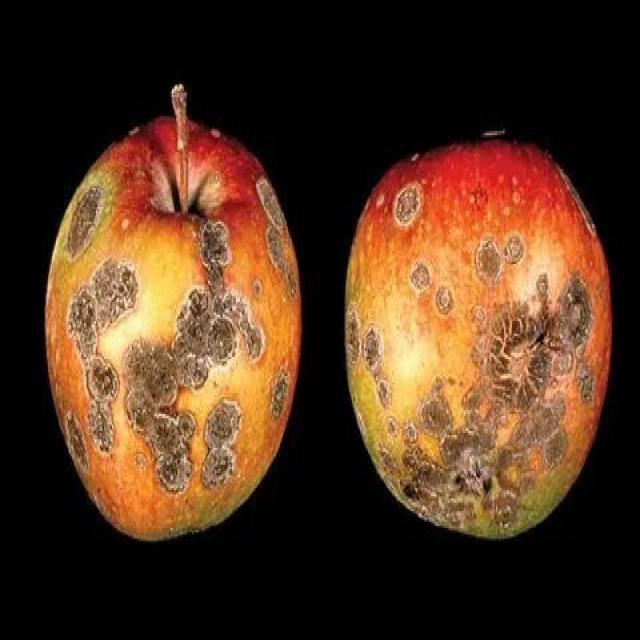Apple: (38, 110, 308, 545), (338, 130, 618, 548)
